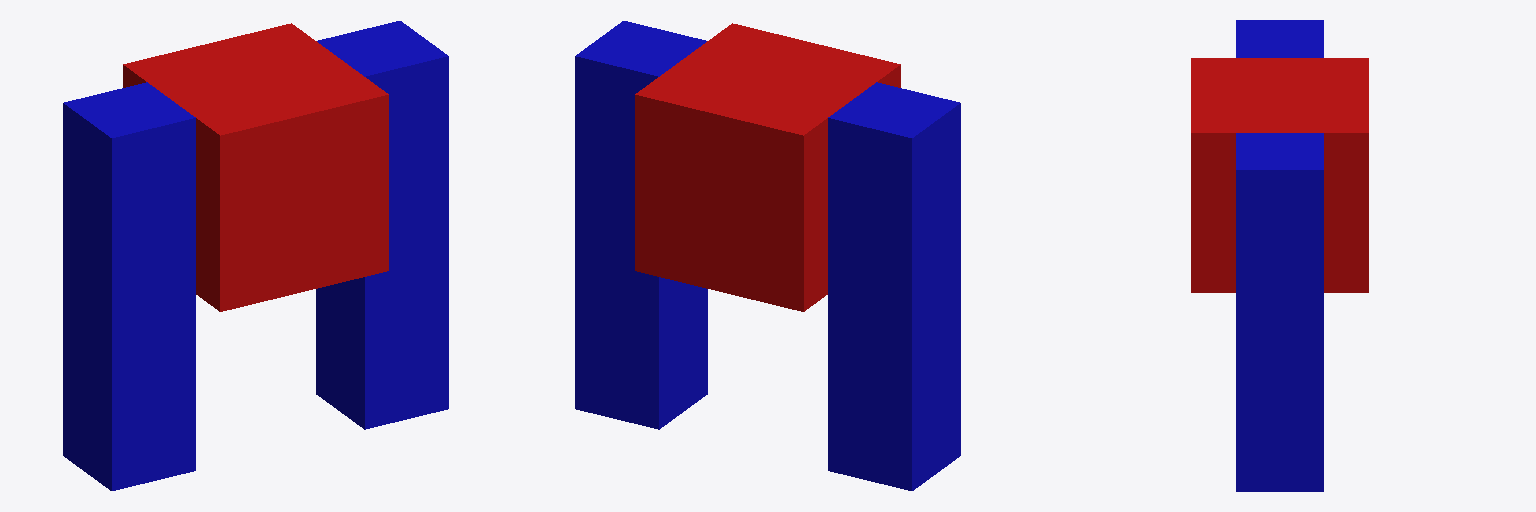
URDF robot description (cube_robot):
<?xml version="1.0" ?>
<!-- =================================================================================== -->
<!-- |    This document was autogenerated by xacro from bipedal_description.urdf.xacro | -->
<!-- |    EDITING THIS FILE BY HAND IS NOT RECOMMENDED                                 | -->
<!-- =================================================================================== -->
<robot name="cube_robot">
  <!-- Define base -->
  <link name="base_link">
    <inertial>
      <origin rpy="0 0 0" xyz="0 0 0"/>
      <mass value="1"/>
      <inertia ixx="0.0833333" ixy="0" ixz="0" iyy="0.0833333" iyz="0" izz="0.0833333"/>
    </inertial>
    <collision>
      <origin rpy="0 0 0" xyz="0 0 0"/>
      <geometry>
        <box size="1 1 1"/>
      </geometry>
    </collision>
    <visual>
      <origin rpy="0 0 0" xyz="0 0 0"/>
      <geometry>
        <box size="1 1 1"/>
      </geometry>
      <material name="red">
        <color rgba="0.8 0.1 0.1 1"/>
      </material>
    </visual>
  </link>
  <link name="left_leg_link">
    <inertial>
      <origin rpy="0 0 0" xyz="0 0 -0.5"/>
      <mass value="0.5"/>
      <inertia ixx="0.0138889" ixy="0" ixz="0" iyy="0.0138889" iyz="0" izz="0.0138889"/>
    </inertial>
    <collision>
      <origin rpy="0 0 0" xyz="0 0 -0.5"/>
      <geometry>
        <box size="0.5 0.5 2"/>
      </geometry>
    </collision>
    <visual>
      <origin rpy="0 0 0" xyz="0 0 -0.5"/>
      <geometry>
        <box size="0.5 0.5 2"/>
      </geometry>
      <material name="blue">
        <color rgba="0.1 0.1 0.8 1"/>
      </material>
    </visual>
  </link>
  <link name="right_leg_link">
    <inertial>
      <origin rpy="0 0 0" xyz="0 0 -0.5"/>
      <mass value="0.5"/>
      <inertia ixx="0.0138889" ixy="0" ixz="0" iyy="0.0138889" iyz="0" izz="0.0138889"/>
    </inertial>
    <collision>
      <origin rpy="0 0 0" xyz="0 0 -0.5"/>
      <geometry>
        <box size="0.5 0.5 2"/>
      </geometry>
    </collision>
    <visual>
      <origin rpy="0 0 0" xyz="0 0 -0.5"/>
      <geometry>
        <box size="0.5 0.5 2"/>
      </geometry>
      <material name="blue">
        <color rgba="0.1 0.1 0.8 1"/>
      </material>
    </visual>
  </link>
  <!-- Joint definition -->
  <joint name="left_leg_joint" type="revolute">
    <parent link="base_link"/>
    <child link="left_leg_link"/>
    <origin rpy="0 0 0" xyz="-0.75 0 0"/>
    <axis xyz="1 0 0"/>
    <limit effort="100" lower="-1.57" upper="1.57" velocity="1.0"/>
  </joint>
  <joint name="right_leg_joint" type="revolute">
    <parent link="base_link"/>
    <child link="right_leg_link"/>
    <origin rpy="0 0 0" xyz="0.75 0 0"/>
    <axis xyz="1 0 0"/>
    <limit effort="100" lower="-1.57" upper="1.57" velocity="1.0"/>
  </joint>
</robot>

--- Render facts (derived) ---
Views: 3 orthographic renders of the robot side by side, from view 1: azimuth 30°, elevation 25°; view 2: azimuth 150°, elevation 25°; view 3: azimuth 270°, elevation 25°.
Robot: cube_robot — 3 links, 2 joints (2 revolute); root link base_link; default pose: every joint at zero.
Visible links, largest first — view 1: left_leg_link, base_link, right_leg_link; view 2: left_leg_link, base_link, right_leg_link; view 3: right_leg_link, base_link, left_leg_link.
Link boxes in pixels (left/top/right/bottom): left_leg_link: left=63, top=82, right=195, bottom=490; base_link: left=123, top=23, right=388, bottom=311; right_leg_link: left=316, top=21, right=448, bottom=429; left_leg_link: left=828, top=82, right=960, bottom=490; base_link: left=635, top=23, right=900, bottom=311; right_leg_link: left=575, top=21, right=707, bottom=429; right_leg_link: left=1236, top=133, right=1323, bottom=491; base_link: left=1191, top=58, right=1368, bottom=292; left_leg_link: left=1236, top=20, right=1323, bottom=57.
Size in the robot's own frame: 2 by 1 by 2 metres.
Geometry: primitives only (box / cylinder / sphere), no mesh files.